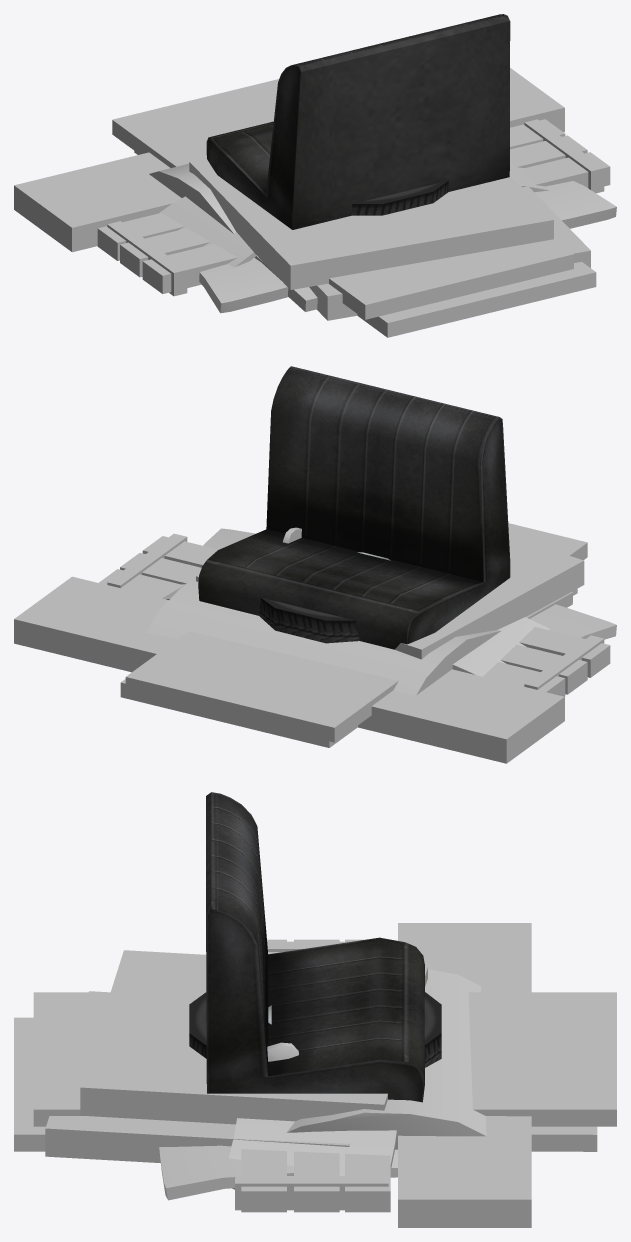
File: Vehicles_rastrojero_models.fbx
3 renders of one model, top to bottom at view 1: azimuth 30°, elevation 25°; view 2: azimuth 150°, elevation 25°; view 3: azimuth 270°, elevation 25°, orthographic. The views are drawn at different scales.
Parts seen in each view (by area): view 1: SeatFrontLeft_mesh, Trunk2_mesh, Trunk3_mesh, Trunk_mesh, Hood_mesh, FrontWindshield_mesh, DoorFrontLeft_mesh, Wheel_mesh; view 2: SeatFrontLeft_mesh, Trunk2_mesh, Trunk3_mesh, DoorFrontLeft_mesh, Trunk_mesh, Wheel_mesh, Hood_mesh, FrontWindshield_mesh; view 3: Trunk2_mesh, SeatFrontLeft_mesh, Trunk3_mesh, DoorFrontLeft_mesh, Trunk_mesh, FrontWindshield_mesh, Hood_mesh, Wheel_mesh.
Part boxes in pixels (x1,y1,x2,y2): SeatFrontLeft_mesh: (206, 14, 510, 229); Trunk2_mesh: (14, 68, 590, 320); Trunk3_mesh: (112, 79, 596, 337); Trunk_mesh: (97, 119, 610, 296); Hood_mesh: (199, 181, 616, 313); FrontWindshield_mesh: (159, 161, 549, 267); DoorFrontLeft_mesh: (149, 163, 317, 311); Wheel_mesh: (352, 180, 448, 215); SeatFrontLeft_mesh: (198, 366, 510, 649); Trunk2_mesh: (14, 536, 584, 763); Trunk3_mesh: (120, 523, 587, 747); DoorFrontLeft_mesh: (146, 527, 573, 695); Trunk_mesh: (99, 533, 610, 696); Wheel_mesh: (259, 552, 390, 643); Hood_mesh: (203, 528, 616, 639); FrontWindshield_mesh: (162, 583, 549, 676); Trunk2_mesh: (45, 923, 531, 1227); SeatFrontLeft_mesh: (206, 792, 424, 1102); Trunk3_mesh: (14, 992, 616, 1151); DoorFrontLeft_mesh: (267, 969, 486, 1149); Trunk_mesh: (235, 939, 390, 1212); FrontWindshield_mesh: (228, 1118, 396, 1189); Hood_mesh: (159, 1145, 397, 1200); Wheel_mesh: (189, 992, 441, 1067).
Size of the model in its own units: 1.69 by 0.6849 by 1.55.
